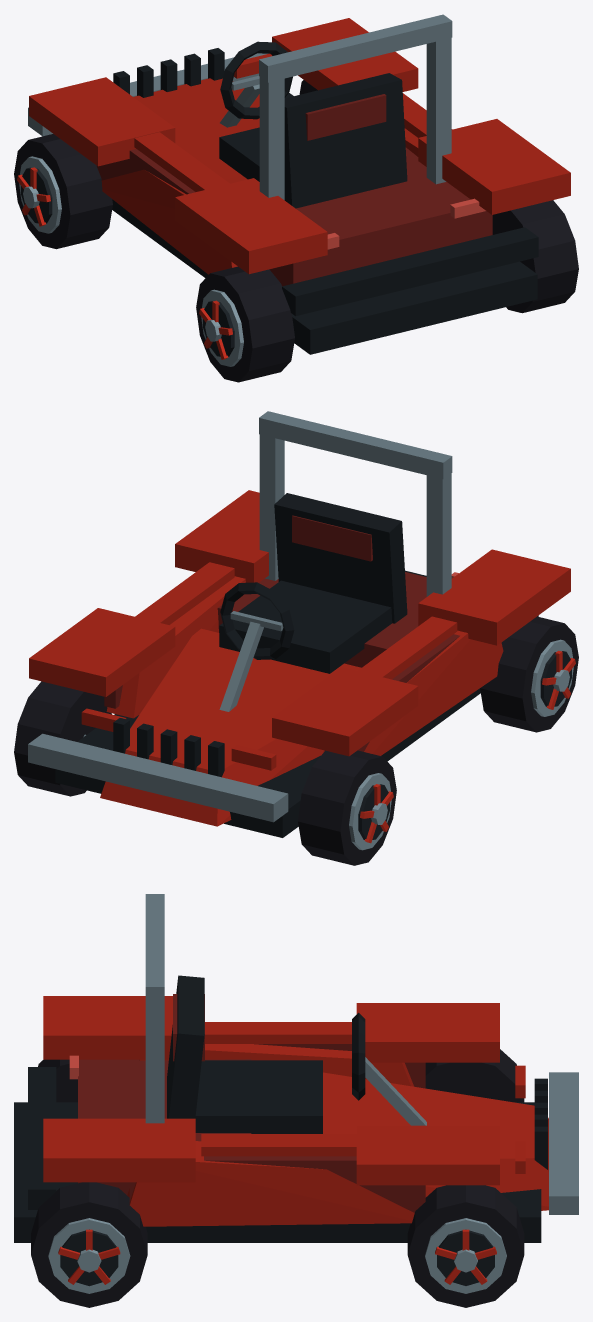
The model's file is kart.glb.
3 views of the same model, one above another, from view 1: azimuth 30°, elevation 25°; view 2: azimuth 150°, elevation 25°; view 3: azimuth 270°, elevation 25° (orthographic). The views are drawn at different scales.
Parts seen in each view (by area): view 1: chassis, wheel-rear-left, wheel-front-left, wheel-rear-right; view 2: chassis, wheel-front-left, wheel-rear-left, wheel-front-right; view 3: chassis, wheel-front-right, wheel-rear-right, wheel-front-left, wheel-rear-left.
Part boxes in pixels (<box>): chassis: <box>28,14,570,354</box>; wheel-rear-left: <box>196,266,294,382</box>; wheel-front-left: <box>14,134,112,249</box>; wheel-rear-right: <box>492,200,578,313</box>; chassis: <box>28,411,570,837</box>; wheel-front-left: <box>298,750,396,865</box>; wheel-rear-left: <box>480,616,578,732</box>; wheel-front-right: <box>14,681,111,796</box>; chassis: <box>14,894,578,1242</box>; wheel-front-right: <box>407,1185,524,1307</box>; wheel-rear-right: <box>31,1182,147,1307</box>; wheel-front-left: <box>425,1049,524,1102</box>; wheel-rear-left: <box>38,1059,77,1102</box>.
Size of the model in its own units: 2.24 by 1.67 by 3.
